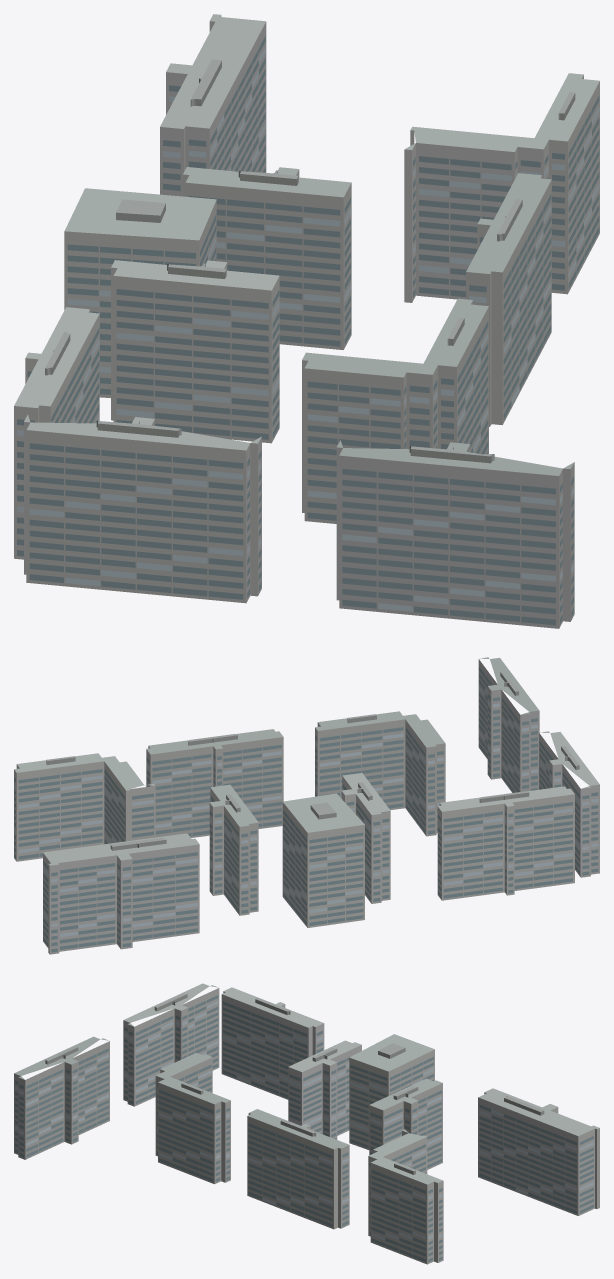
Rendered from apt-a13820007.glb.
3 views of the same model, one above another, from view 1: azimuth 30°, elevation 25°; view 2: azimuth 150°, elevation 25°; view 3: azimuth 270°, elevation 25° (orthographic). The views are drawn at different scales.
Visible parts, largest first — view 1: apt-a13820007; view 2: apt-a13820007; view 3: apt-a13820007.
Boxes of the visible parts, bbox=[...] form: apt-a13820007: bbox=[14, 14, 599, 628]; apt-a13820007: bbox=[14, 657, 599, 954]; apt-a13820007: bbox=[14, 983, 599, 1264].
Bounding box in the file's own units: 230 × 47.81 × 284.
